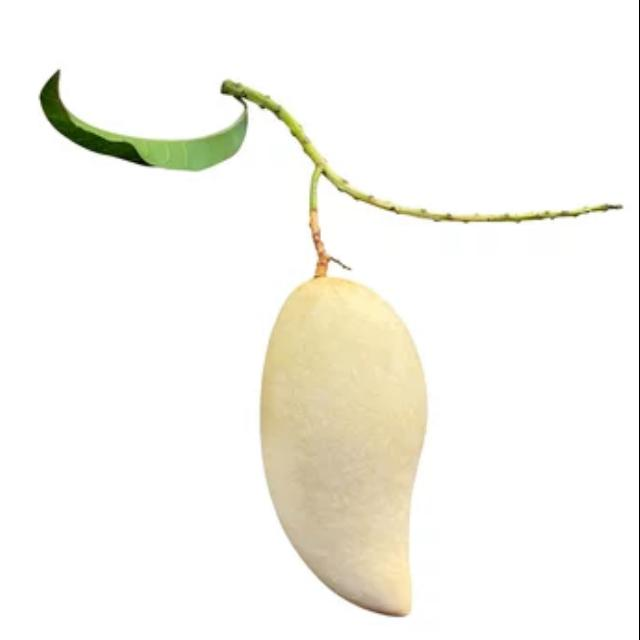mango: (255, 270, 426, 625)
